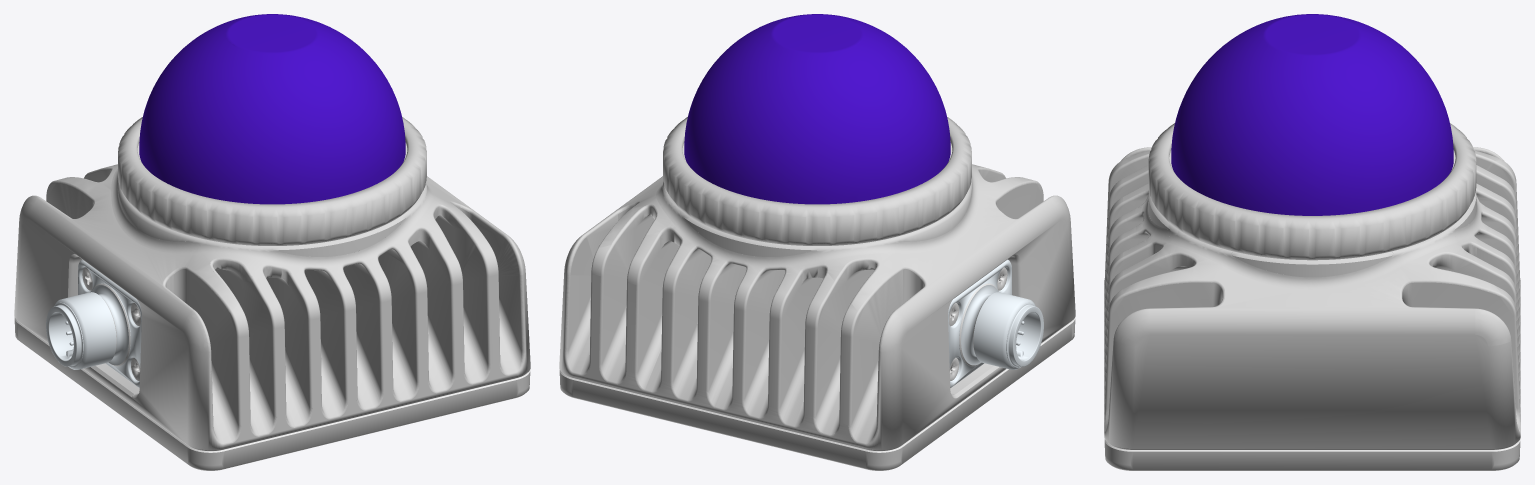
Rendered from livox_mid360.dae.
3 views of the same model, side by side, from view 1: azimuth 30°, elevation 25°; view 2: azimuth 150°, elevation 25°; view 3: azimuth 270°, elevation 25° (orthographic). The views are drawn at different scales.
Visible parts, largest first — view 1: node_c66780e3_171c_42a2_b423_b256174e7571_mesh0, node_c66780e3_171c_42a2_b423_b256174e7571_mesh3, node_c66780e3_171c_42a2_b423_b256174e7571_mesh6, node_c66780e3_171c_42a2_b423_b256174e7571_mesh1, node_c66780e3_171c_42a2_b423_b256174e7571_mesh5, node_c66780e3_171c_42a2_b423_b256174e7571_mesh4; view 2: node_c66780e3_171c_42a2_b423_b256174e7571_mesh0, node_c66780e3_171c_42a2_b423_b256174e7571_mesh6, node_c66780e3_171c_42a2_b423_b256174e7571_mesh3, node_c66780e3_171c_42a2_b423_b256174e7571_mesh1, node_c66780e3_171c_42a2_b423_b256174e7571_mesh5, node_c66780e3_171c_42a2_b423_b256174e7571_mesh4; view 3: node_c66780e3_171c_42a2_b423_b256174e7571_mesh0, node_c66780e3_171c_42a2_b423_b256174e7571_mesh6, node_c66780e3_171c_42a2_b423_b256174e7571_mesh3, node_c66780e3_171c_42a2_b423_b256174e7571_mesh1, node_c66780e3_171c_42a2_b423_b256174e7571_mesh4.
Boxes of the visible parts, x1,y1,x2,y2 form: node_c66780e3_171c_42a2_b423_b256174e7571_mesh0: (14,164,530,450); node_c66780e3_171c_42a2_b423_b256174e7571_mesh3: (14,117,530,470); node_c66780e3_171c_42a2_b423_b256174e7571_mesh6: (139,14,405,204); node_c66780e3_171c_42a2_b423_b256174e7571_mesh1: (52,167,521,419); node_c66780e3_171c_42a2_b423_b256174e7571_mesh5: (46,259,141,387); node_c66780e3_171c_42a2_b423_b256174e7571_mesh4: (14,143,530,452); node_c66780e3_171c_42a2_b423_b256174e7571_mesh0: (559,164,1075,450); node_c66780e3_171c_42a2_b423_b256174e7571_mesh6: (684,14,950,204); node_c66780e3_171c_42a2_b423_b256174e7571_mesh3: (559,117,1075,470); node_c66780e3_171c_42a2_b423_b256174e7571_mesh1: (580,169,978,444); node_c66780e3_171c_42a2_b423_b256174e7571_mesh5: (948,259,1043,387); node_c66780e3_171c_42a2_b423_b256174e7571_mesh4: (559,143,1075,452); node_c66780e3_171c_42a2_b423_b256174e7571_mesh0: (1104,147,1520,448); node_c66780e3_171c_42a2_b423_b256174e7571_mesh6: (1171,14,1453,215); node_c66780e3_171c_42a2_b423_b256174e7571_mesh3: (1104,123,1520,470); node_c66780e3_171c_42a2_b423_b256174e7571_mesh1: (1104,151,1520,431); node_c66780e3_171c_42a2_b423_b256174e7571_mesh4: (1104,150,1520,451).
Size of the model in its own units: 0.0509 by 0.0454 by 0.0421.
